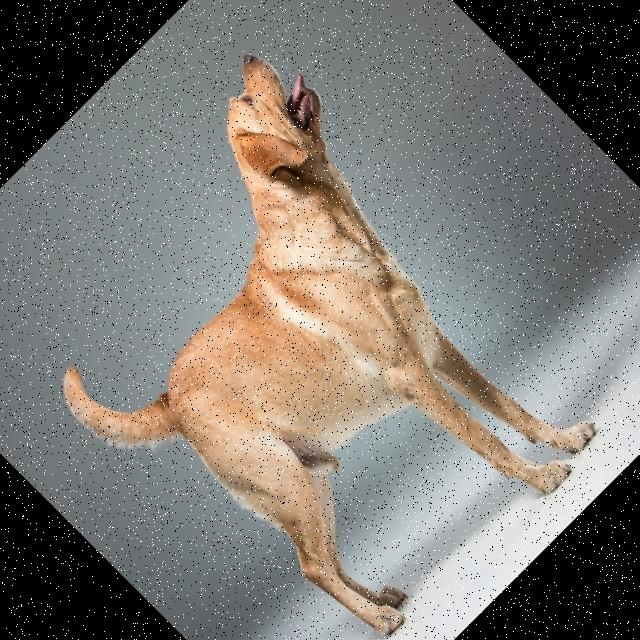Dog: (0, 35, 637, 640)
